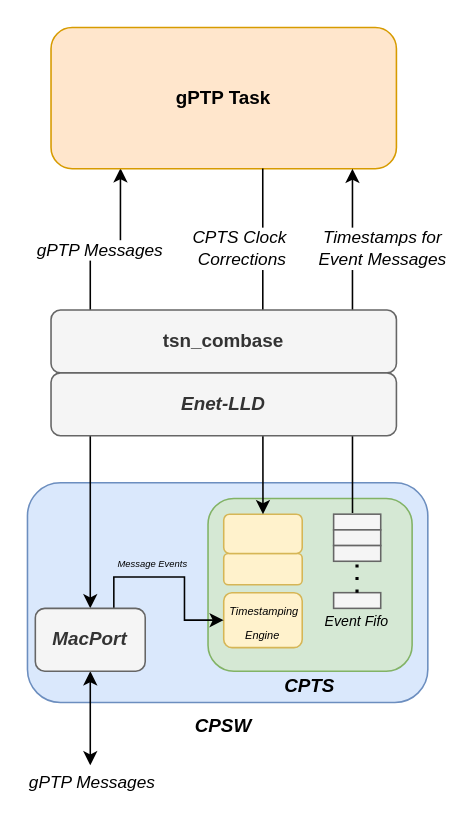
Image size: 473x820. Some labels were removed from this diagram. Each missing label, with the centre of its shape:
64 bit Counter: point (262, 568)
PPM, Nudge: point (262, 533)
